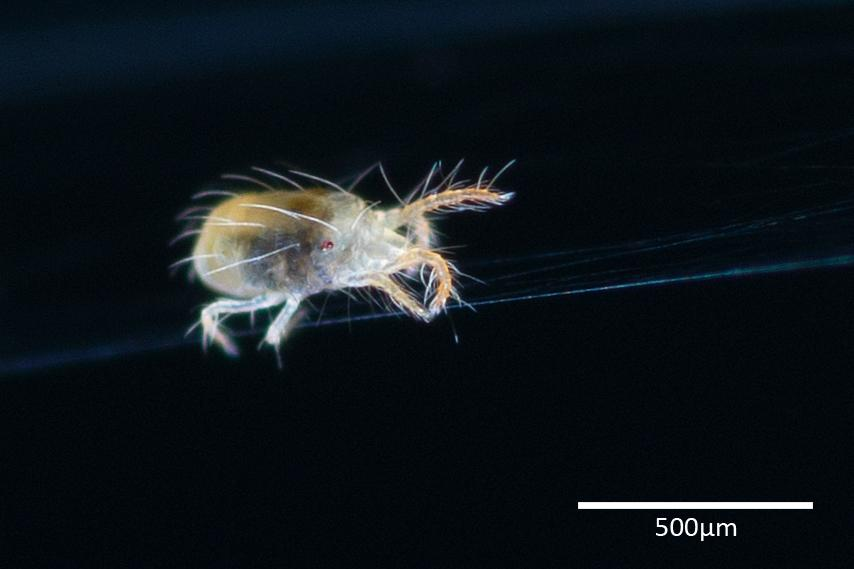tiny_pests: (121, 125, 554, 388)
